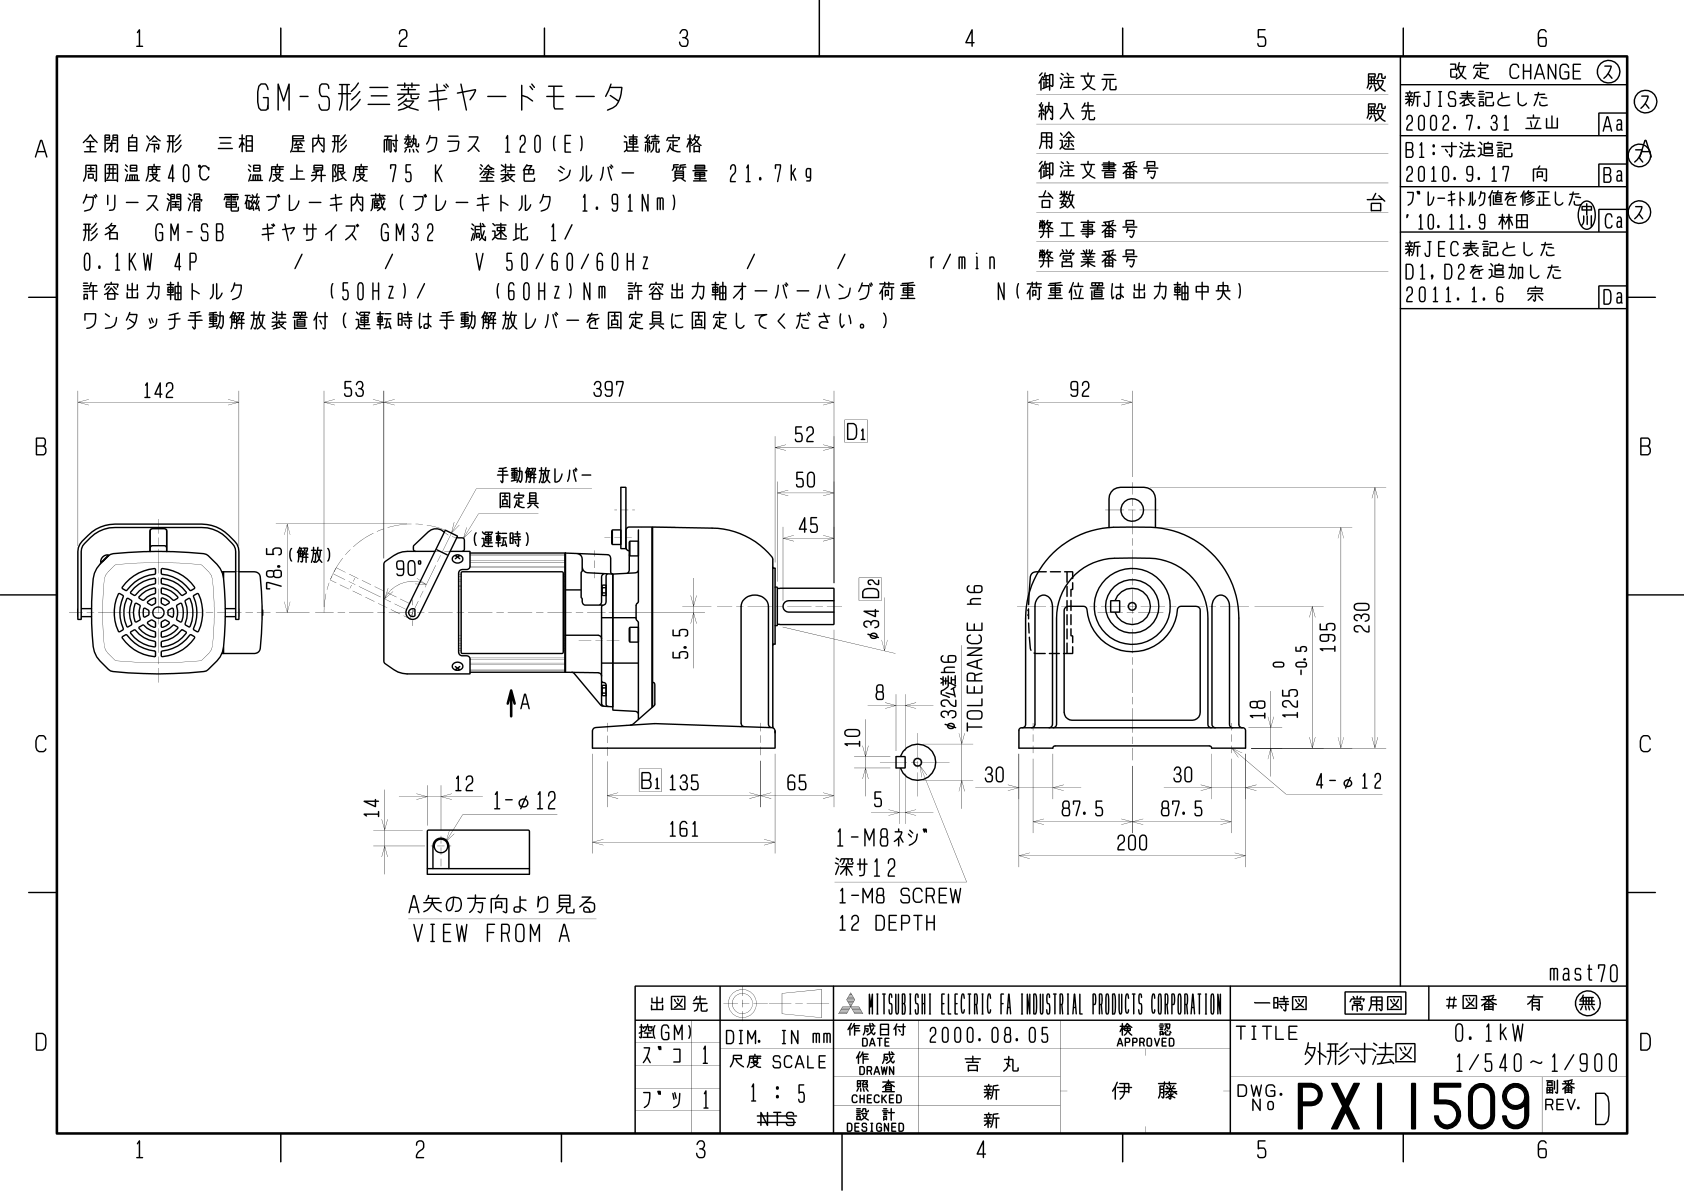GM_S_手動ブレーキ＿三相_脚: (4, 8, 1684, 1183)
